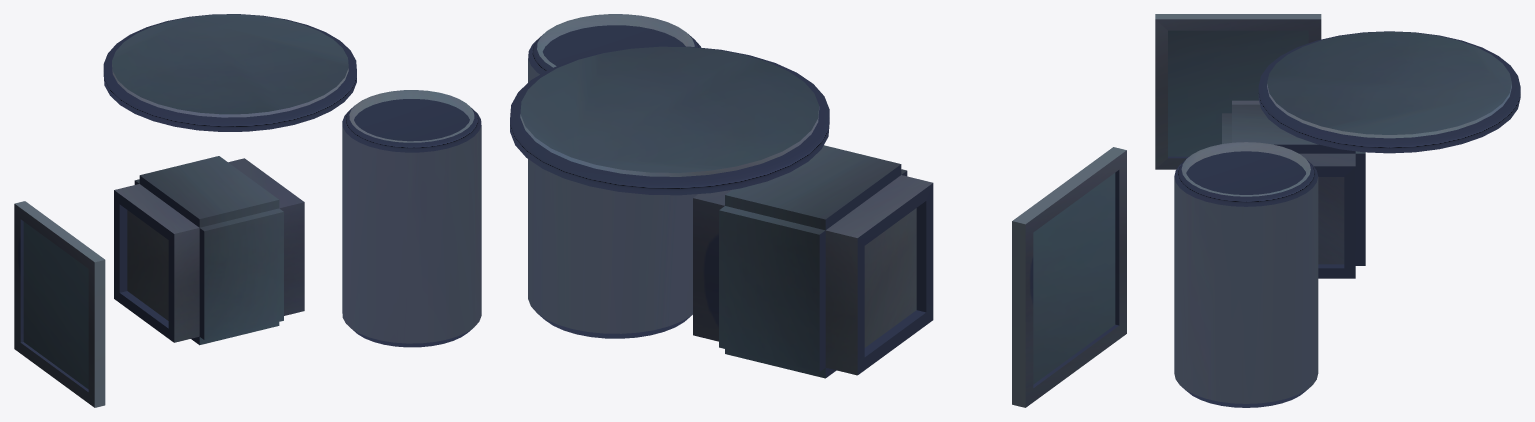
Rendered from junk.fbx.
3 views of the same model, side by side, from view 1: azimuth 30°, elevation 25°; view 2: azimuth 150°, elevation 25°; view 3: azimuth 270°, elevation 25° (orthographic). The views are drawn at different scales.
Visible parts, largest first — view 1: Cylinder.002, Cylinder.003, Cylinder.004, Cylinder.001; view 2: Cylinder.003, Cylinder.004, Cylinder.002, Cylinder.001; view 3: Cylinder.002, Cylinder.004, Cylinder.001, Cylinder.003.
Boxes of the visible parts, x1=… form: Cylinder.002: x1=342, y1=90, x2=481, y2=347; Cylinder.003: x1=114, y1=156, x2=304, y2=345; Cylinder.004: x1=103, y1=14, x2=356, y2=131; Cylinder.001: x1=14, y1=201, x2=105, y2=407; Cylinder.003: x1=693, y1=145, x2=933, y2=378; Cylinder.004: x1=510, y1=46, x2=829, y2=195; Cylinder.002: x1=528, y1=14, x2=700, y2=338; Cylinder.001: x1=1012, y1=147, x2=1126, y2=407; Cylinder.002: x1=1174, y1=142, x2=1318, y2=407; Cylinder.004: x1=1258, y1=31, x2=1520, y2=153; Cylinder.001: x1=1155, y1=14, x2=1321, y2=169; Cylinder.003: x1=1222, y1=100, x2=1365, y2=278.
Size of the model in its own units: 4024 by 2128 by 2925.
Materials: 1 (1 with a texture image).
